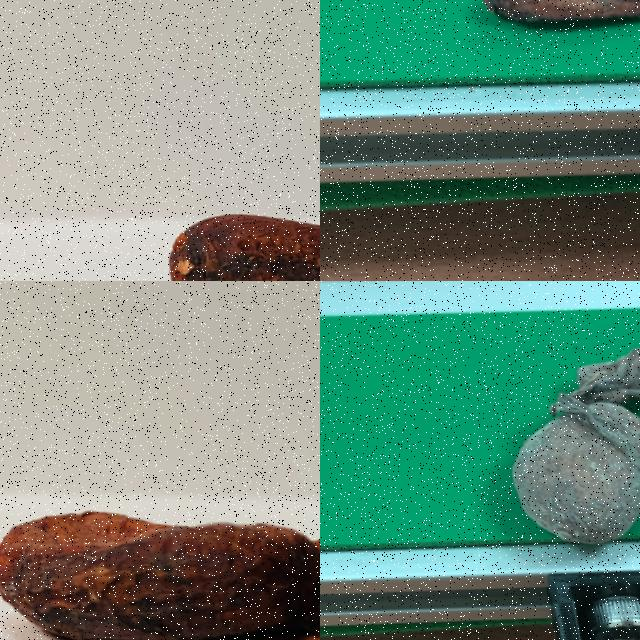Agglomerated_cocoabeans: (392, 283, 639, 619), (0, 408, 319, 639)
Fine_cocoabeans: (104, 147, 319, 280)
Flat_cocoabeans: (430, 0, 639, 66)
